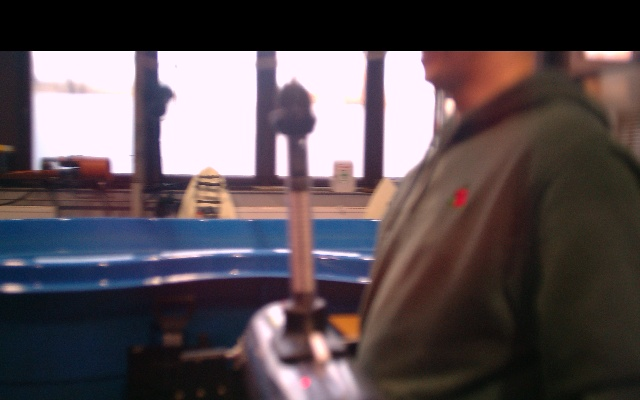black: (287, 172, 317, 311)
